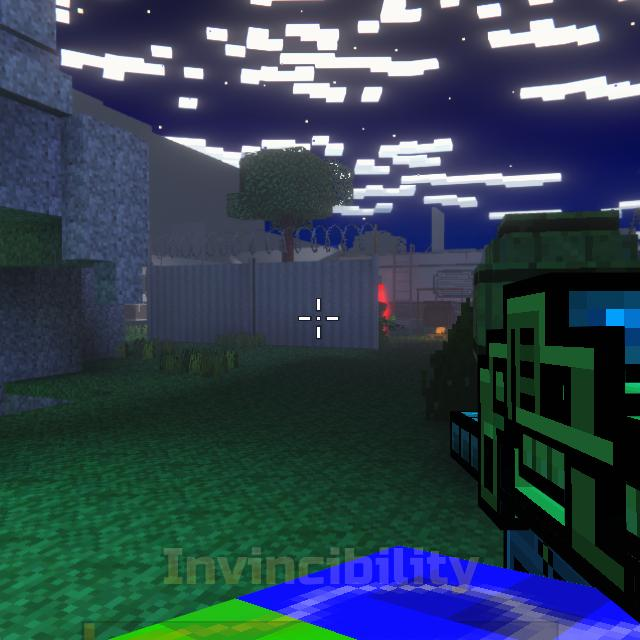Enemy: (380, 302, 389, 334)
